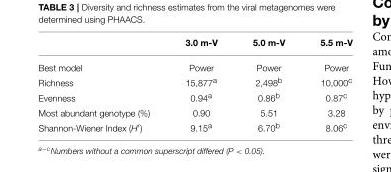table: (37, 37, 351, 132)
table column: (37, 37, 166, 132), (166, 37, 234, 132), (234, 37, 301, 132), (301, 37, 351, 132)
table column header: (37, 37, 351, 55)
table row: (37, 55, 351, 74), (37, 37, 351, 55), (37, 89, 351, 105), (37, 74, 351, 89), (37, 105, 351, 119), (37, 119, 351, 132)
